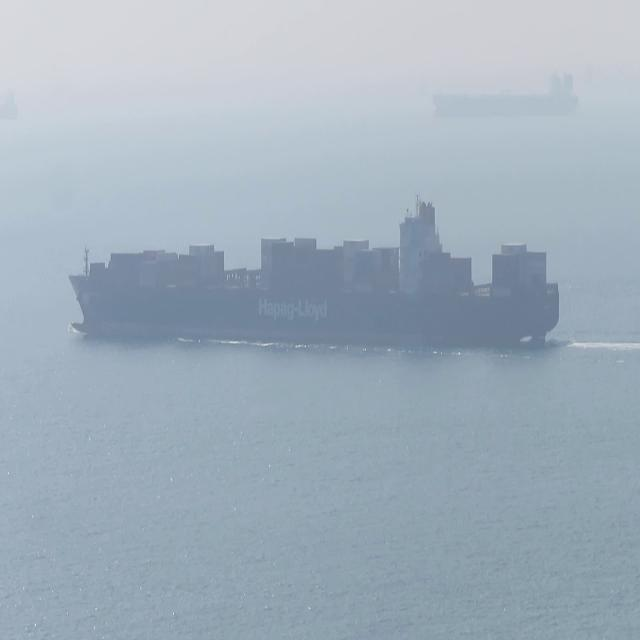cargoship: (70, 195, 558, 351), (434, 59, 578, 116)
